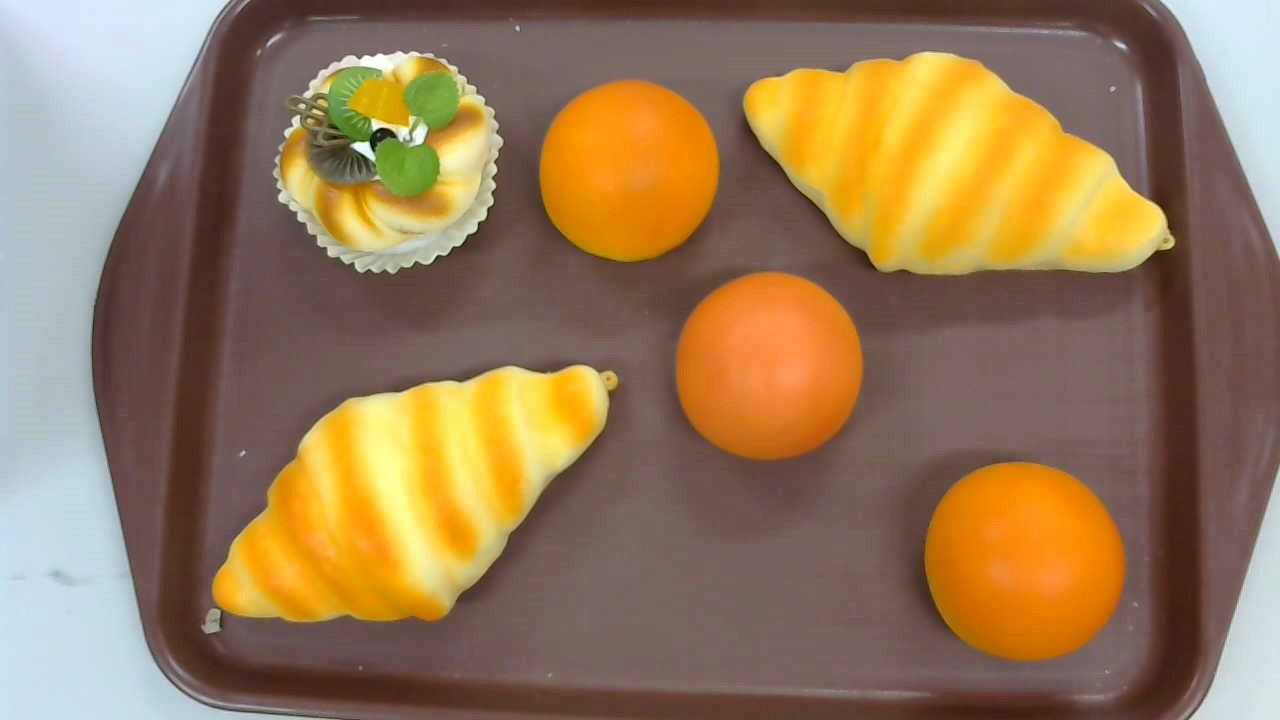bun: (924, 460, 1125, 660), (675, 270, 863, 459), (539, 80, 719, 264)
croissant: (211, 363, 619, 622), (741, 50, 1177, 278)
fruit tart: (272, 51, 503, 275)
